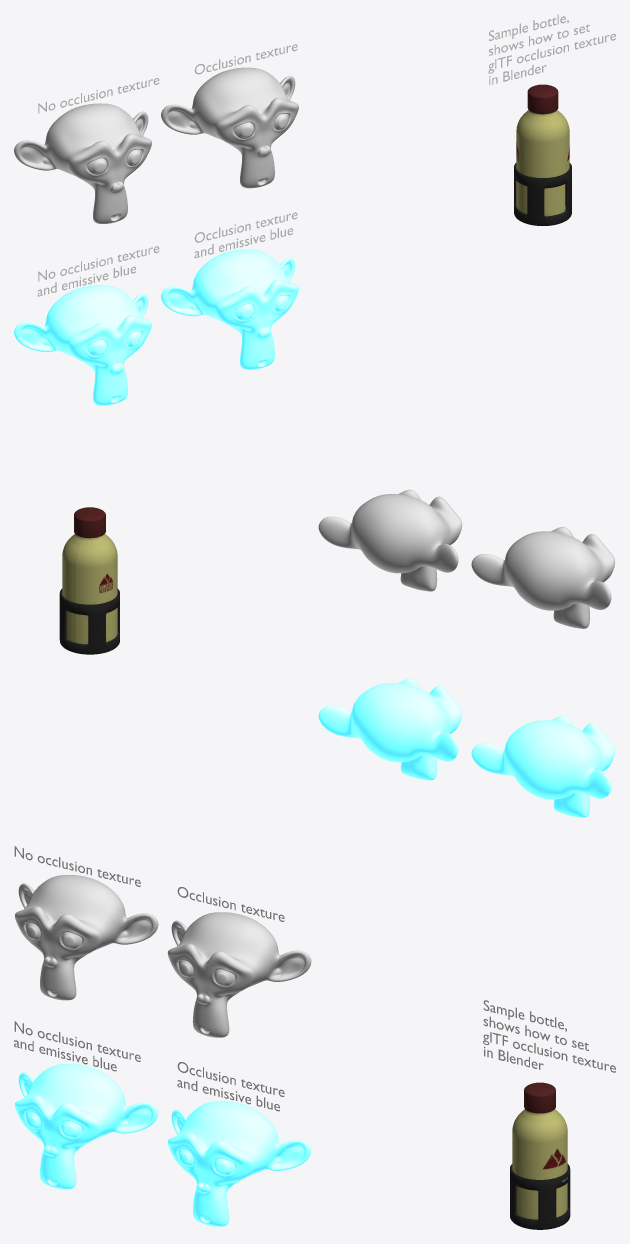
File: occlusion_texture.gltf
3 views of the same model, one above another, from view 1: azimuth 30°, elevation 25°; view 2: azimuth 150°, elevation 25°; view 3: azimuth 330°, elevation 25° (orthographic). The views are drawn at different scales.
Parts seen in each view (by area): view 1: Suzanne.003, Suzanne.002, Suzanne.001, Suzanne, WaterBottle, Text.008, Text.002, Text.003; view 2: Suzanne.003, Suzanne.001, Suzanne, Suzanne.002, WaterBottle; view 3: Suzanne, Suzanne.001, Suzanne.003, Suzanne.002, WaterBottle, Text.008, Text.002, Text.003, Text.
Part boxes in pixels (x1,y1,x2,y2): Suzanne.003: (161, 249, 298, 369); Suzanne.002: (14, 285, 151, 405); Suzanne.001: (161, 67, 298, 188); Suzanne: (14, 103, 151, 223); WaterBottle: (514, 84, 571, 225); Text.008: (488, 14, 615, 85); Text.002: (37, 246, 159, 296); Text.003: (194, 212, 297, 258); Suzanne.003: (318, 678, 462, 780); Suzanne.001: (318, 489, 462, 591); Suzanne: (471, 527, 615, 628); Suzanne.002: (471, 716, 615, 817); WaterBottle: (59, 507, 119, 654); Suzanne: (15, 875, 158, 1000); Suzanne.001: (167, 912, 311, 1037); Suzanne.003: (167, 1101, 311, 1226); Suzanne.002: (15, 1064, 158, 1189); WaterBottle: (510, 1082, 570, 1229); Text.008: (483, 1000, 615, 1072); Text.002: (14, 1021, 140, 1071); Text.003: (177, 1062, 284, 1111); Text: (14, 846, 140, 886).
Bounding box in the file's own units: 11.6 × 5.71 × 1.58.
5 materials, 1 textured.
